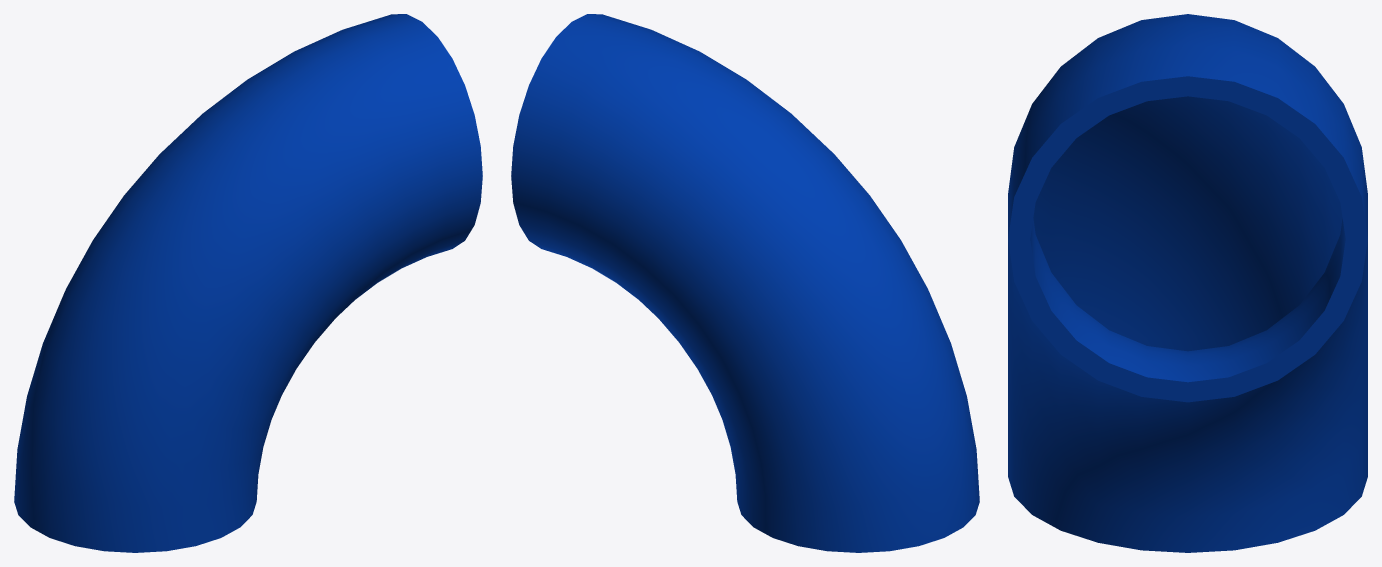
3 views of the same model, side by side, from view 1: azimuth 30°, elevation 25°; view 2: azimuth 150°, elevation 25°; view 3: azimuth 270°, elevation 25° (orthographic). The views are drawn at different scales.
Visible parts, largest first — view 1: SM_Tube_90; view 2: SM_Tube_90; view 3: SM_Tube_90.
Boxes of the visible parts, x1,y1,x2,y2 form: SM_Tube_90: (14,14,482,552); SM_Tube_90: (511,14,979,552); SM_Tube_90: (1008,14,1367,552).
Bounding box in the file's own units: 174 × 93.28 × 174.
